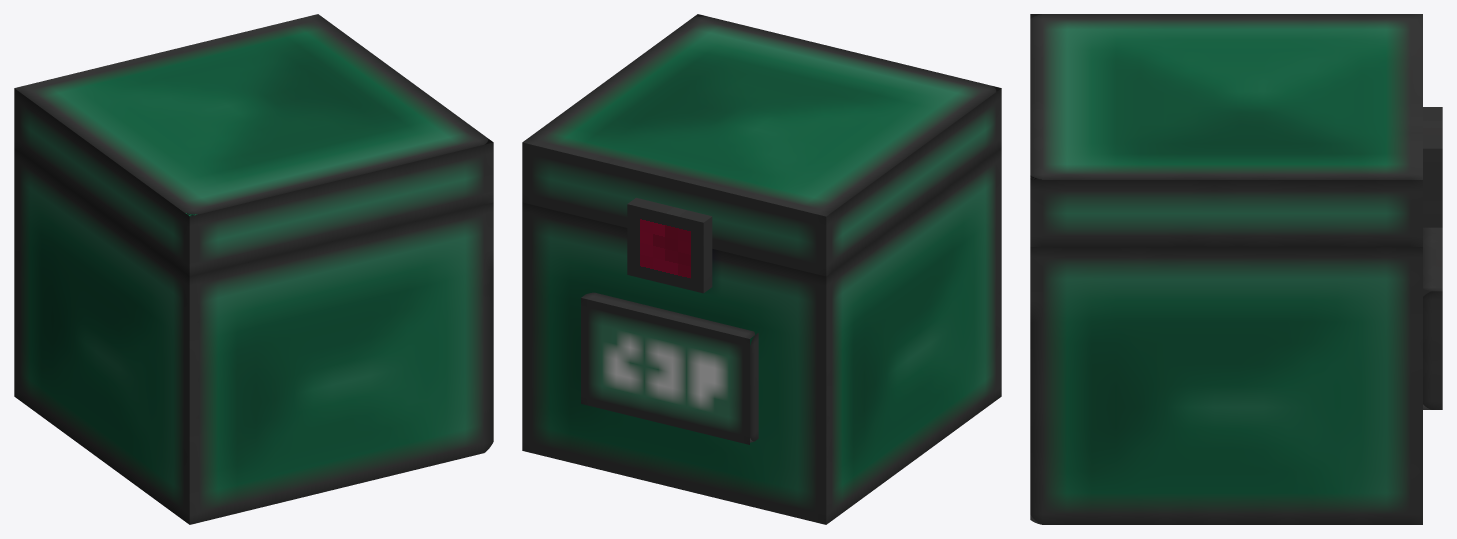
File: code_storage.obj
3 views of the same model, side by side, from view 1: azimuth 30°, elevation 25°; view 2: azimuth 150°, elevation 25°; view 3: azimuth 270°, elevation 25° (orthographic). The views are drawn at different scales.
Visible parts, largest first — view 1: body, top; view 2: body, top, screenandkeyboard, gauge; view 3: body, top, screenandkeyboard, gauge.
Boxes of the visible parts, left/top/right/bottom form: body: left=14, top=148, right=493, bottom=524; top: left=14, top=14, right=493, bottom=276; body: left=522, top=148, right=1001, bottom=524; top: left=522, top=14, right=1001, bottom=276; screenandkeyboard: left=581, top=292, right=758, bottom=444; gauge: left=627, top=197, right=712, bottom=293; body: left=1030, top=175, right=1422, bottom=524; top: left=1030, top=14, right=1422, bottom=246; screenandkeyboard: left=1423, top=227, right=1442, bottom=409; gauge: left=1423, top=107, right=1442, bottom=227.
Size of the model in its own units: 0.9 by 0.8725 by 0.945.
